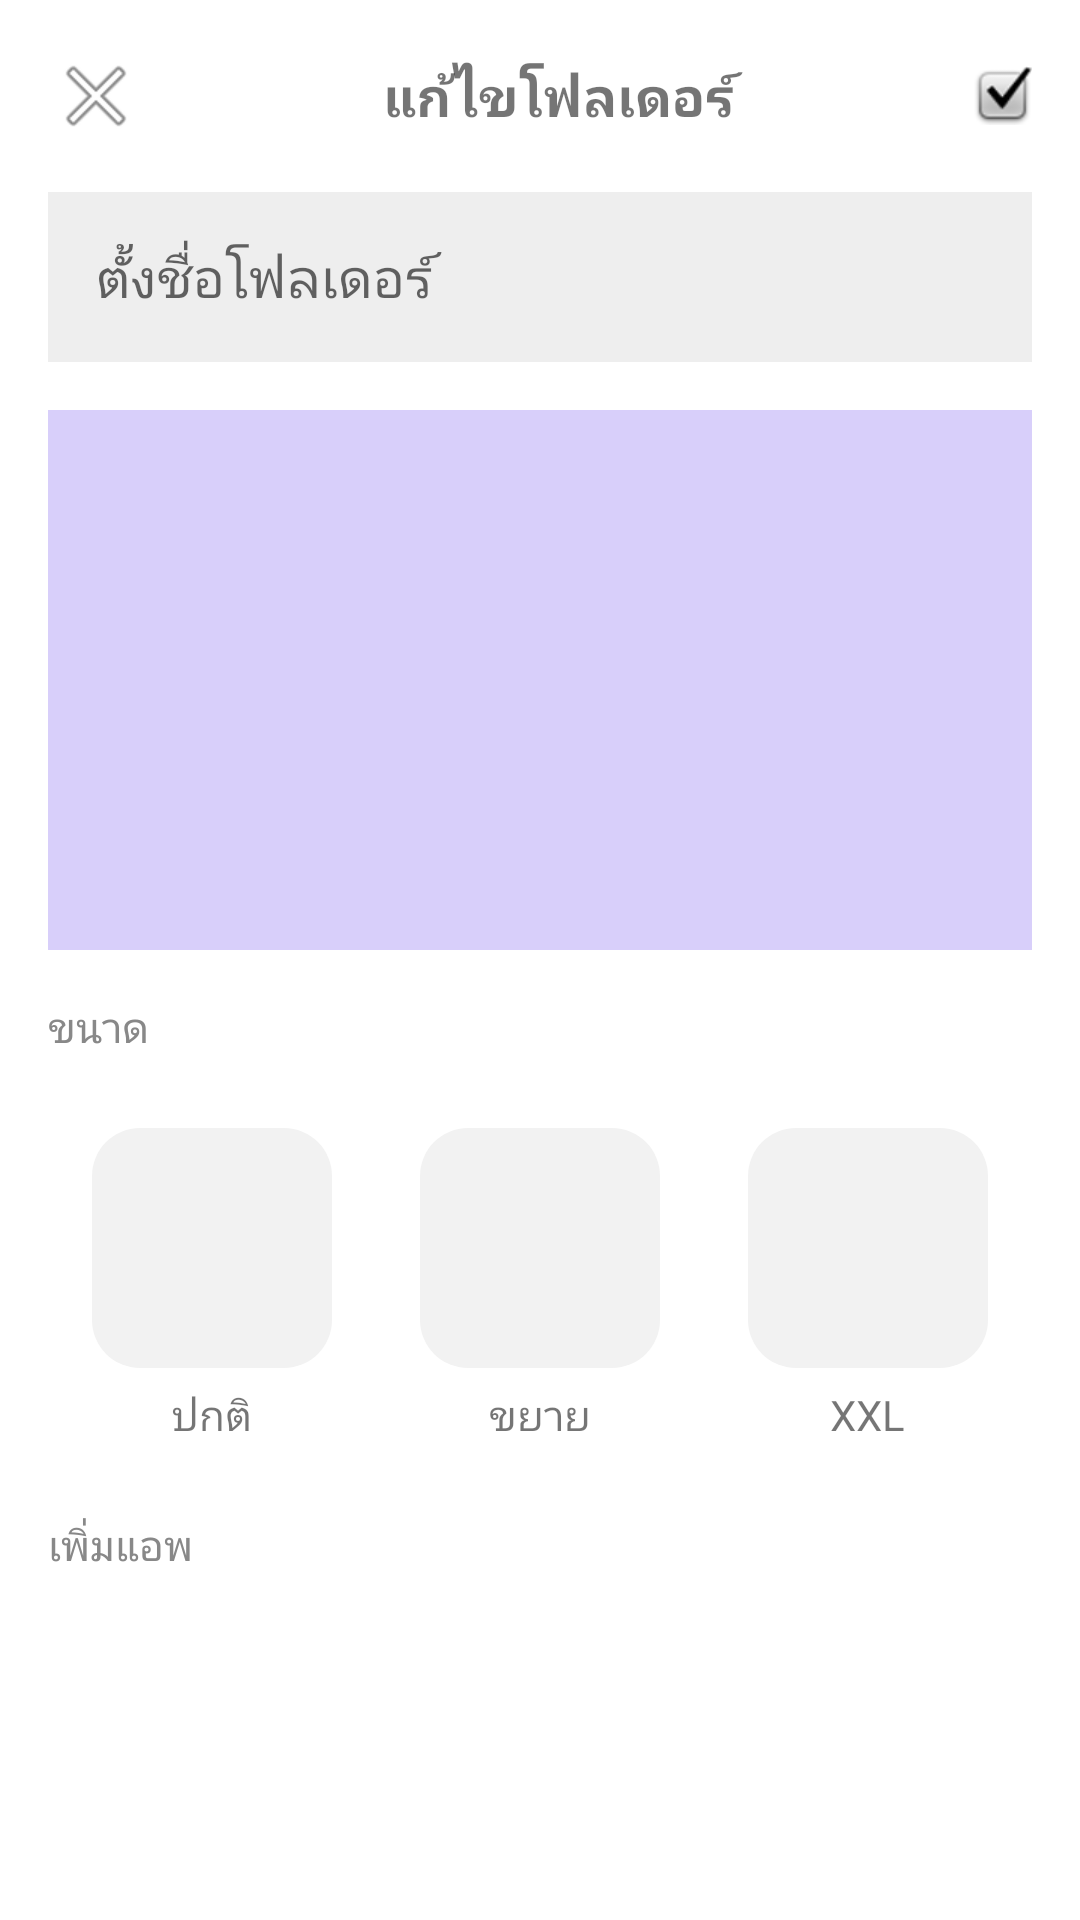

Where to tap for icons on this 1080w x 1920h app screen, as (x=x, y=y):
close clear cancel: (x=96, y=96)
